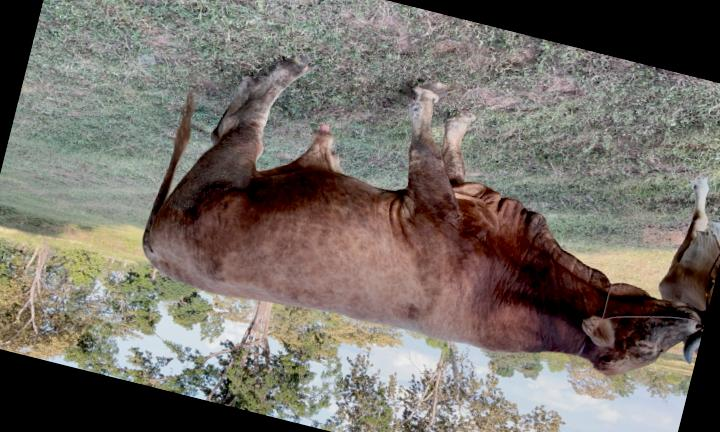Charolais: (142, 59, 700, 375)
